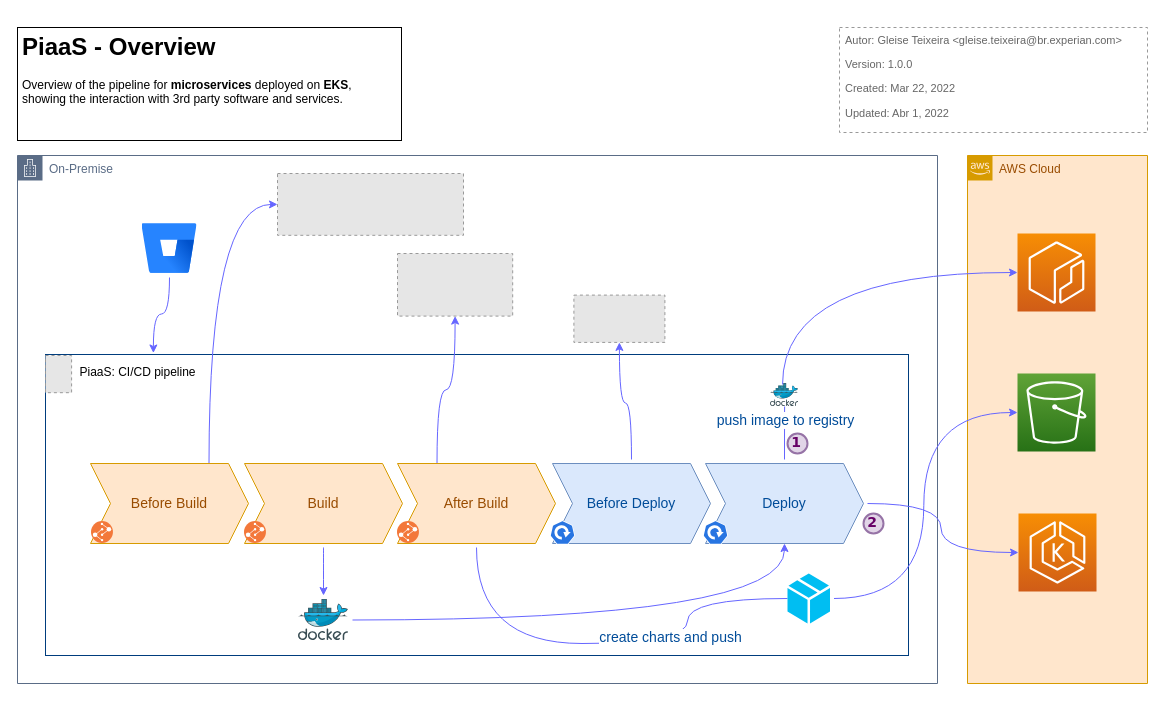
Image size: 1165x701. Some labels were removed from this diagram. Grey dashed boxes stand in for pictures. Each missing label, with the centre of its shape:
App Charts: the point at 808,598
BitBkucket: the point at 169,248
ECR: the point at 1056,272
EKS: the point at 1057,552
S3/charts: the point at 1056,412
